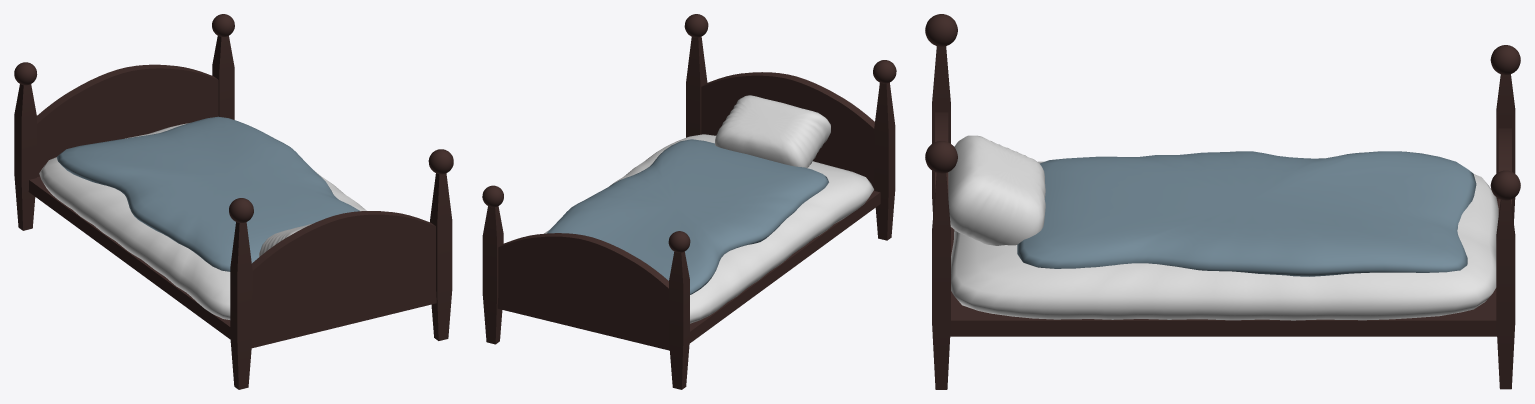
Rendered from Lit3_5.fbx.
The picture shows the model from 3 angles, left to right: view 1: azimuth 30°, elevation 25°; view 2: azimuth 150°, elevation 25°; view 3: azimuth 270°, elevation 25°; orthographic projection. The views are drawn at different scales.
Parts seen in each view (by area): view 1: pCylinder245, pCube954, pCube959, pCylinder247, pCube955, pCube956, pCube957, pCube960, pCube958, pCylinder246; view 2: pCylinder245, pCube959, pCylinder247, pCube954, pCylinder246, pCube955, pCube957, pCube960, pCube958, pCube956; view 3: pCylinder245, pCylinder247, pCube960, pCylinder246, pCube956, pCube958, pCube955, pCube957, pCube959.
Part boxes in pixels (x1,y1,x2,y2): pCylinder245: (56, 116, 360, 271); pCube954: (251, 211, 436, 348); pCube959: (37, 64, 218, 176); pCylinder247: (39, 123, 366, 319); pCube955: (229, 198, 253, 389); pCube956: (428, 149, 453, 340); pCube957: (14, 62, 37, 230); pCube960: (28, 176, 230, 339); pCube958: (212, 14, 234, 119); pCylinder246: (259, 223, 312, 256); pCylinder245: (547, 139, 828, 294); pCube959: (497, 233, 669, 350); pCylinder247: (544, 134, 873, 323); pCube954: (701, 72, 874, 189); pCylinder246: (715, 95, 830, 167); pCube955: (873, 60, 896, 240); pCube957: (668, 231, 690, 389); pCube960: (689, 190, 880, 343); pCube958: (482, 185, 503, 344); pCube956: (684, 14, 708, 137); pCylinder245: (1017, 151, 1476, 276); pCylinder247: (951, 161, 1498, 320); pCube960: (950, 199, 1498, 336); pCylinder246: (948, 135, 1045, 245); pCube956: (925, 141, 957, 389); pCube958: (1490, 170, 1520, 389); pCube955: (925, 14, 957, 215); pCube957: (1490, 45, 1520, 222); pCube959: (1498, 128, 1511, 214).
Size of the model in its own units: 82.19 by 66.59 by 147.
